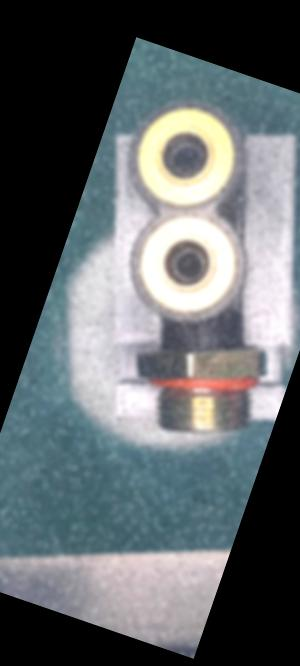craze: (187, 322, 211, 353)
